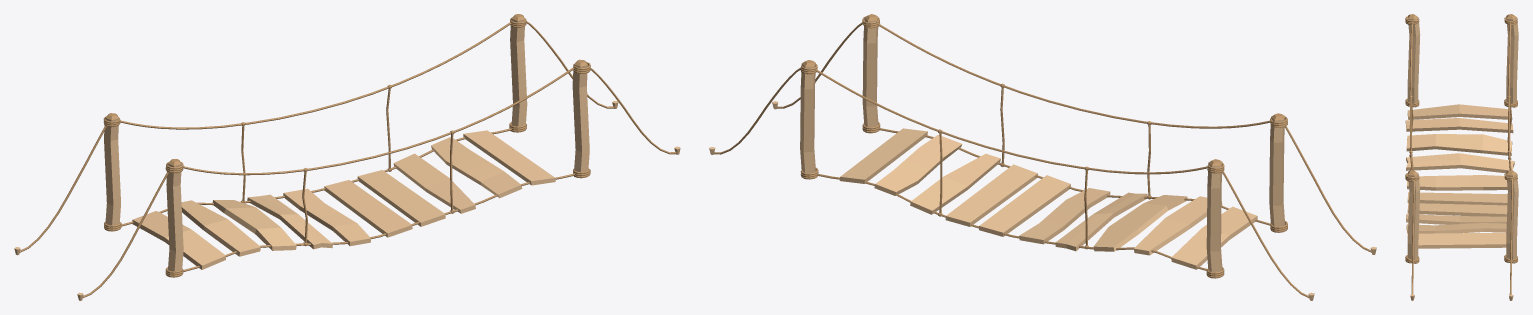
Rendered from bridge002.gltf.
3 renders of one model, left to right at view 1: azimuth 30°, elevation 25°; view 2: azimuth 150°, elevation 25°; view 3: azimuth 270°, elevation 25°, orthographic. The views are drawn at different scales.
Visible parts, largest first — view 1: node__Bridge1_-481052, node__Bridge1_1_-486692; view 2: node__Bridge1_-481052, node__Bridge1_1_-486692; view 3: node__Bridge1_-481052, node__Bridge1_1_-486692.
Boxes of the visible parts, x1,y1,x2,y2 form: node__Bridge1_-481052: (14,14,680,300); node__Bridge1_1_-486692: (357,170,445,226); node__Bridge1_-481052: (709,14,1376,300); node__Bridge1_1_-486692: (945,164,1037,226); node__Bridge1_-481052: (1405,14,1518,300); node__Bridge1_1_-486692: (1407,203,1507,216).
Size of what is drawn, in the model's own units: 9.97 by 2.02 by 2.06.
